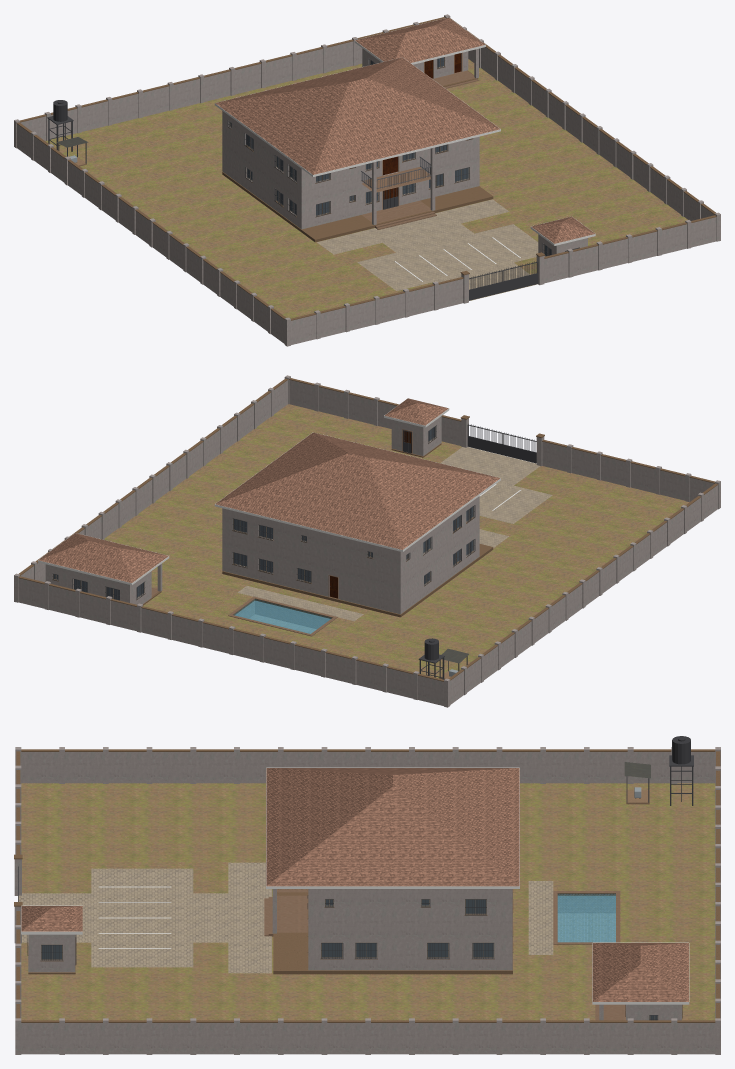
File: mansion_exterior.glb
3 views of the same model, one above another, from view 1: azimuth 30°, elevation 25°; view 2: azimuth 150°, elevation 25°; view 3: azimuth 270°, elevation 25° (orthographic). The views are drawn at different scales.
Visible parts, largest first — view 1: mansion_exterior_static, gate_right_mesh, gate_left_mesh; view 2: mansion_exterior_static, gate_right_mesh, gate_left_mesh; view 3: mansion_exterior_static.
Boxes of the visible parts, left/top/right/bottom form: mansion_exterior_static: left=14, top=14, right=720, bottom=346; gate_right_mesh: left=503, top=261, right=538, bottom=292; gate_left_mesh: left=469, top=269, right=503, bottom=300; mansion_exterior_static: left=14, top=375, right=720, bottom=707; gate_right_mesh: left=467, top=424, right=502, bottom=454; gate_left_mesh: left=502, top=432, right=536, bottom=463; mansion_exterior_static: left=14, top=736, right=720, bottom=1054.
Size of the model in its own units: 44.4 by 11.92 by 48.5.
29 materials, 13 textured.
